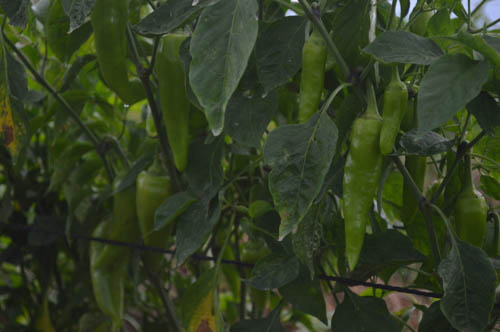ChiliPepper: (343, 117, 380, 274), (153, 37, 197, 167), (89, 1, 132, 95), (135, 168, 173, 265), (90, 225, 127, 320), (99, 175, 134, 269), (404, 105, 427, 233), (301, 42, 329, 129), (378, 87, 409, 155), (457, 196, 486, 250)
